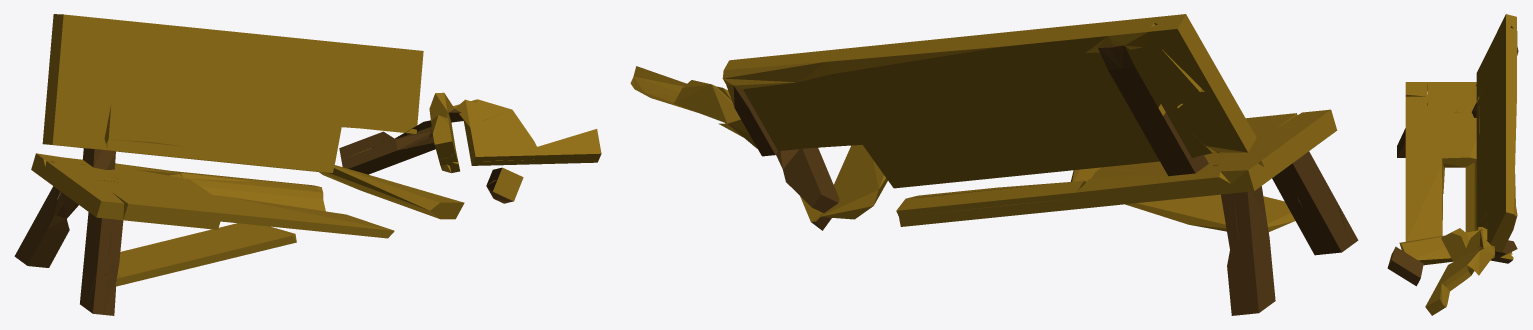
The model's file is bench_broken.dae.
The picture shows the model from 3 angles, left to right: view 1: azimuth 30°, elevation 25°; view 2: azimuth 150°, elevation 25°; view 3: azimuth 270°, elevation 25°; orthographic projection. The views are drawn at different scales.
Visible parts, largest first — view 1: Bench_broken; view 2: Bench_broken; view 3: Bench_broken.
Part boxes in pixels (x1,y1,x2,y2): Bench_broken: [14, 14, 601, 315]; Bench_broken: [630, 14, 1358, 315]; Bench_broken: [1387, 14, 1518, 315].
Bounding box in the file's own units: 2.65 × 0.8468 × 1.13.
